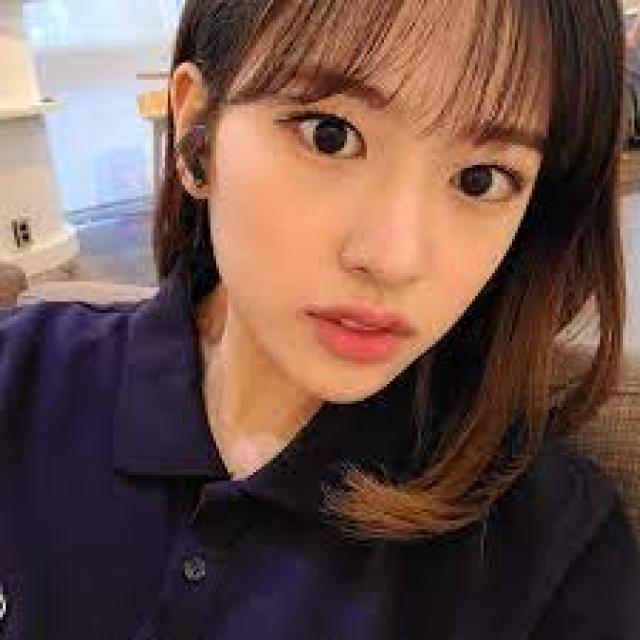earphone: (175, 116, 227, 205)
